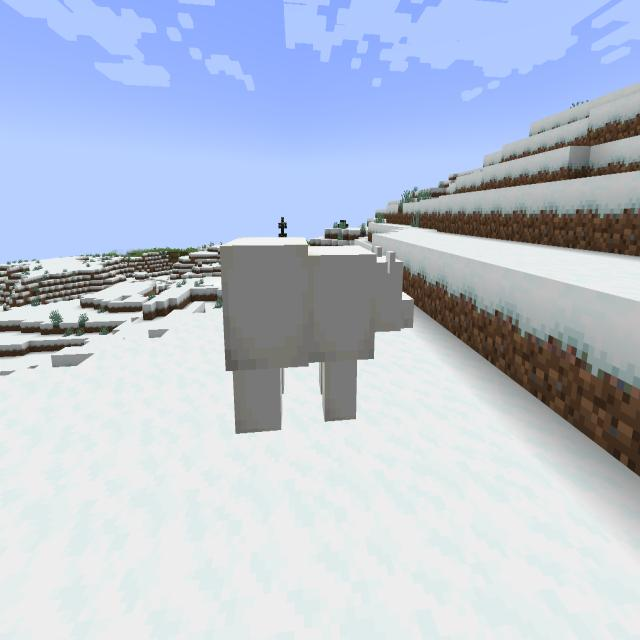Polar Bear: (210, 224, 426, 463)
